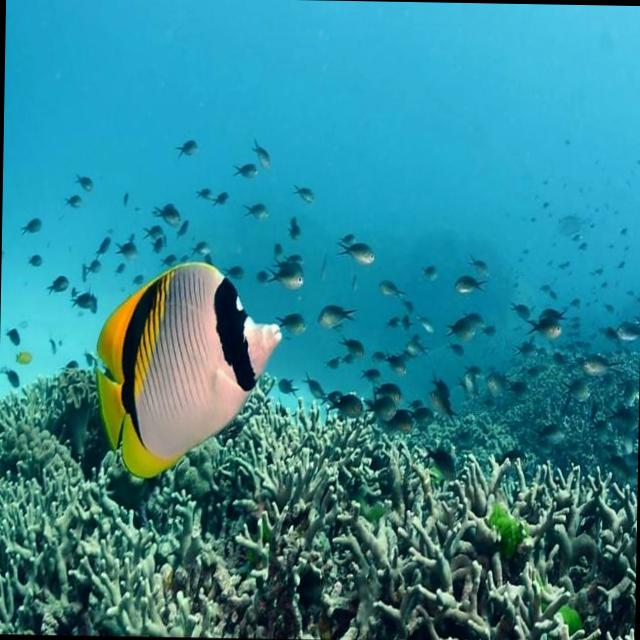ButterflyFish: (92, 257, 284, 482)
